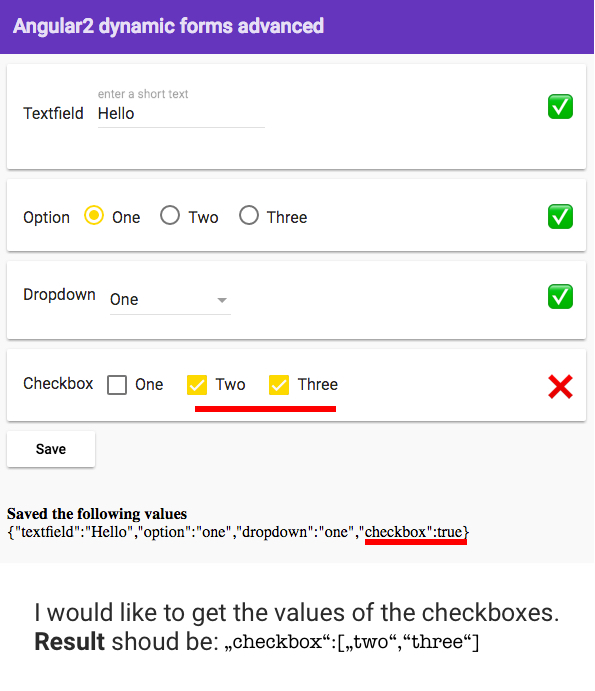_form_: (1, 70, 358, 477)
button: (4, 429, 97, 468)
checkbox: (186, 373, 210, 397), (268, 374, 293, 397), (106, 375, 131, 397)
checkbox_with_label: (264, 372, 337, 399), (184, 370, 245, 399), (103, 373, 166, 399)
field: (95, 102, 266, 129)
field_with_label: (23, 100, 269, 131), (21, 286, 233, 319)
radio: (82, 204, 108, 226), (159, 204, 183, 226), (240, 205, 262, 225)
radio_with_label: (238, 201, 310, 228), (156, 202, 217, 230), (78, 202, 141, 228)
select: (107, 290, 231, 317)
